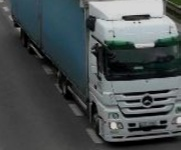truck: (11, 0, 181, 144)
